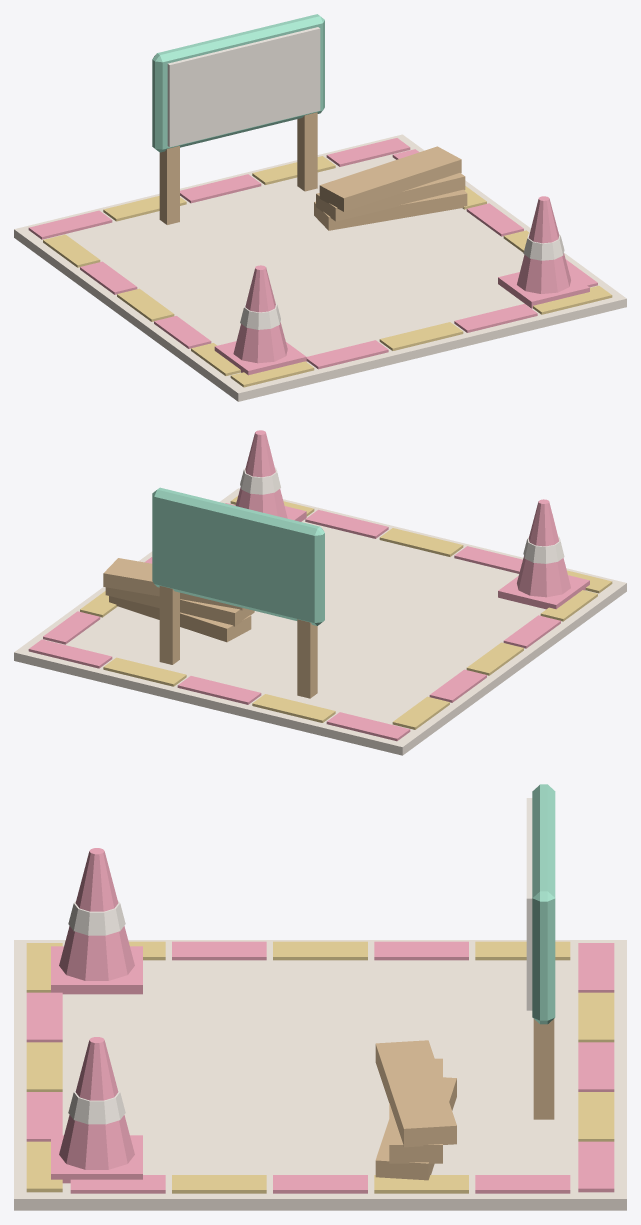
Rendered from CleanACat_Prop_BuildPad.fbx.
The picture shows the model from 3 angles, top to bottom: view 1: azimuth 30°, elevation 25°; view 2: azimuth 150°, elevation 25°; view 3: azimuth 270°, elevation 25°; orthographic projection. The views are drawn at different scales.
Parts seen in each view (by area): view 1: CleanACat_Prop_BuildPad, CleanACat_Prop_BuildPad_Screen; view 2: CleanACat_Prop_BuildPad; view 3: CleanACat_Prop_BuildPad, CleanACat_Prop_BuildPad_Screen.
Part boxes in pixels (x1,y1,x2,y2): CleanACat_Prop_BuildPad: (14,14,626,401); CleanACat_Prop_BuildPad_Screen: (167,27,320,147); CleanACat_Prop_BuildPad: (14,430,626,755); CleanACat_Prop_BuildPad: (14,784,626,1210); CleanACat_Prop_BuildPad_Screen: (526,798,532,1010).
Size of the model in its own units: 4.8 by 2.1 by 4.8.
Materials: 1 (1 with a texture image).
